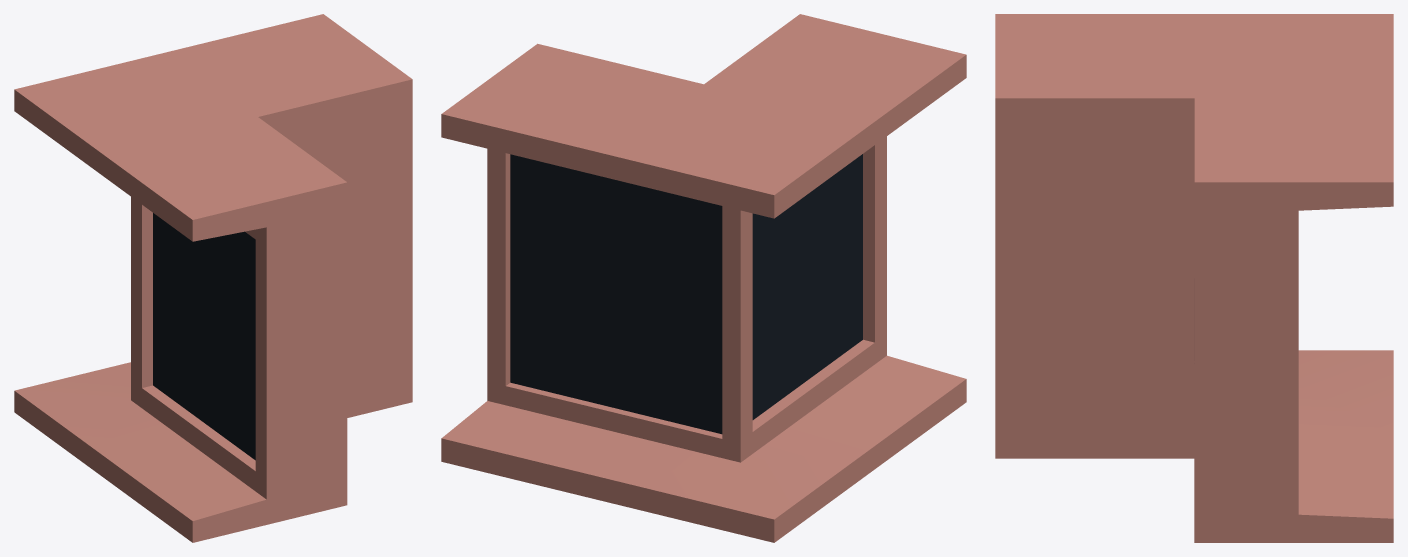
Rendered from BasicWallGlassCornerOuter_2x2.fbx.
3 renders of one model, left to right at view 1: azimuth 30°, elevation 25°; view 2: azimuth 150°, elevation 25°; view 3: azimuth 270°, elevation 25°, orthographic. The views are drawn at different scales.
Parts seen in each view (by area): view 1: BasicWallGlass2h.003; view 2: BasicWallGlass2h.003; view 3: BasicWallGlass2h.003.
Part boxes in pixels (x1,y1,x2,y2): BasicWallGlass2h.003: [14, 14, 412, 542]; BasicWallGlass2h.003: [441, 14, 966, 542]; BasicWallGlass2h.003: [995, 14, 1393, 542].
Size of the model in its own units: 200 by 200 by 200.
